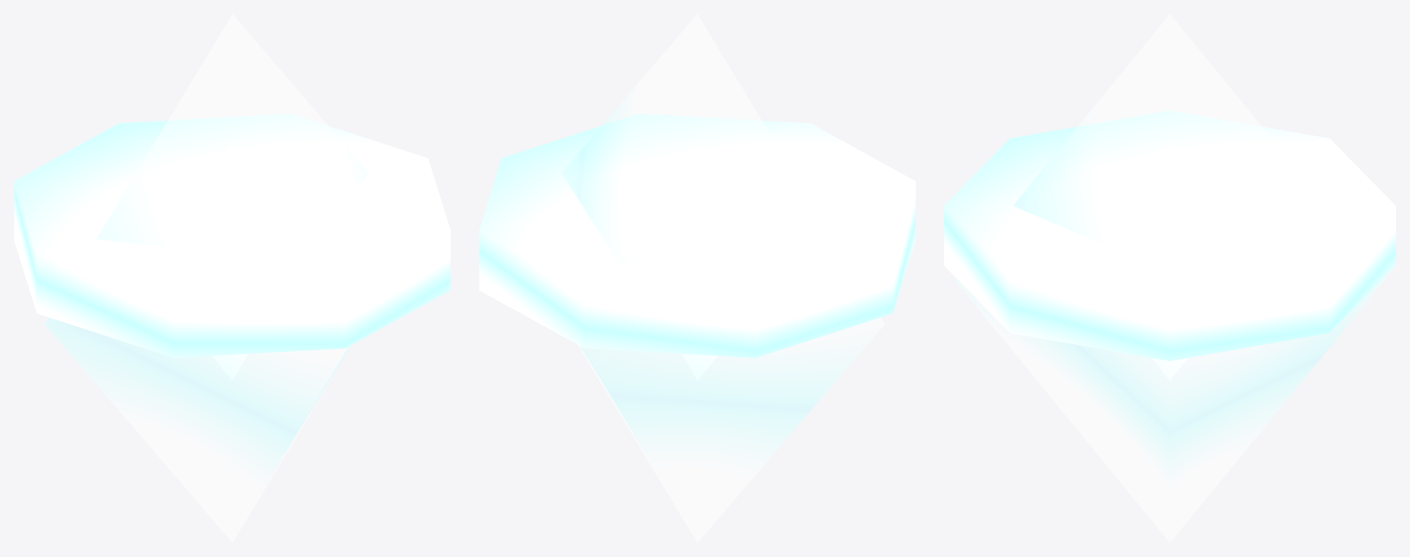
The model's file is STR_Gem.glb.
3 renders of one model, left to right at view 1: azimuth 30°, elevation 25°; view 2: azimuth 150°, elevation 25°; view 3: azimuth 270°, elevation 25°, orthographic.
Parts seen in each view (by area): view 1: girdle, core, fire; view 2: girdle, core, fire; view 3: girdle, core, fire.
Boxes of the visible parts, left/top/right/bottom form: girdle: left=14, top=113, right=450, bottom=357; core: left=45, top=14, right=368, bottom=542; fire: left=189, top=142, right=275, bottom=380; girdle: left=479, top=113, right=915, bottom=357; core: left=561, top=14, right=884, bottom=542; fire: left=654, top=142, right=740, bottom=380; girdle: left=944, top=110, right=1395, bottom=360; core: left=953, top=14, right=1386, bottom=542; fire: left=1120, top=142, right=1219, bottom=380.
Size of the model in its own units: 0.48 by 0.62 by 0.48.
